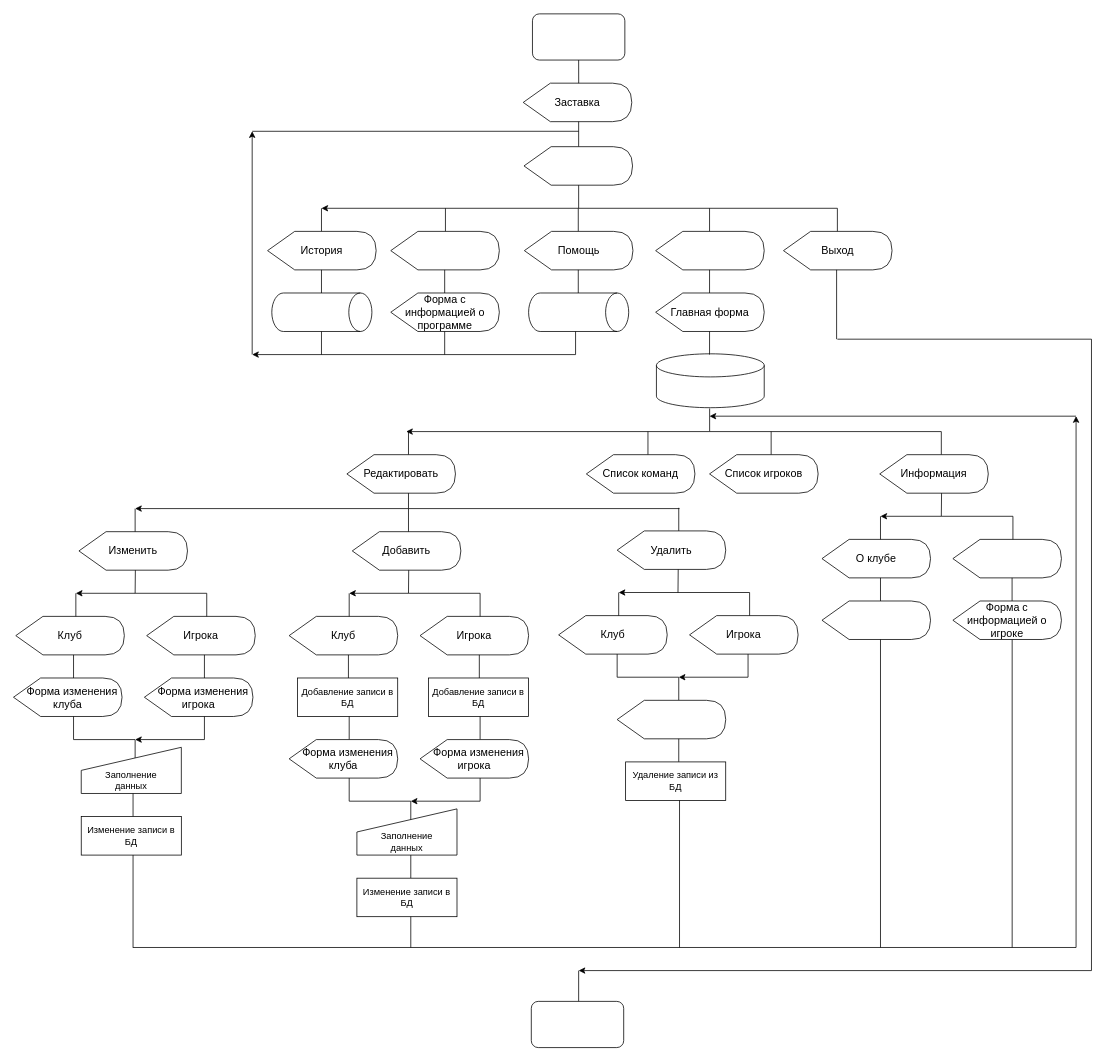
The diagram is 1111 pixels wide and 1061 high, and some of its shapes have lost their labels. Each missing label, with the box of its shape:
help.chm: (528, 292, 629, 331)
HockeyDB: (656, 353, 764, 408)
index.html: (271, 292, 372, 331)
Команды и игроки: (655, 231, 764, 270)
Конец: (531, 1001, 624, 1048)
Меню: (523, 146, 633, 185)
Начало: (532, 13, 625, 60)
О игроке: (952, 539, 1061, 578)
О программе: (390, 231, 499, 270)
Подтверждение об удалении: (616, 700, 726, 739)
Форма с информацией о клубе: (821, 600, 931, 639)
